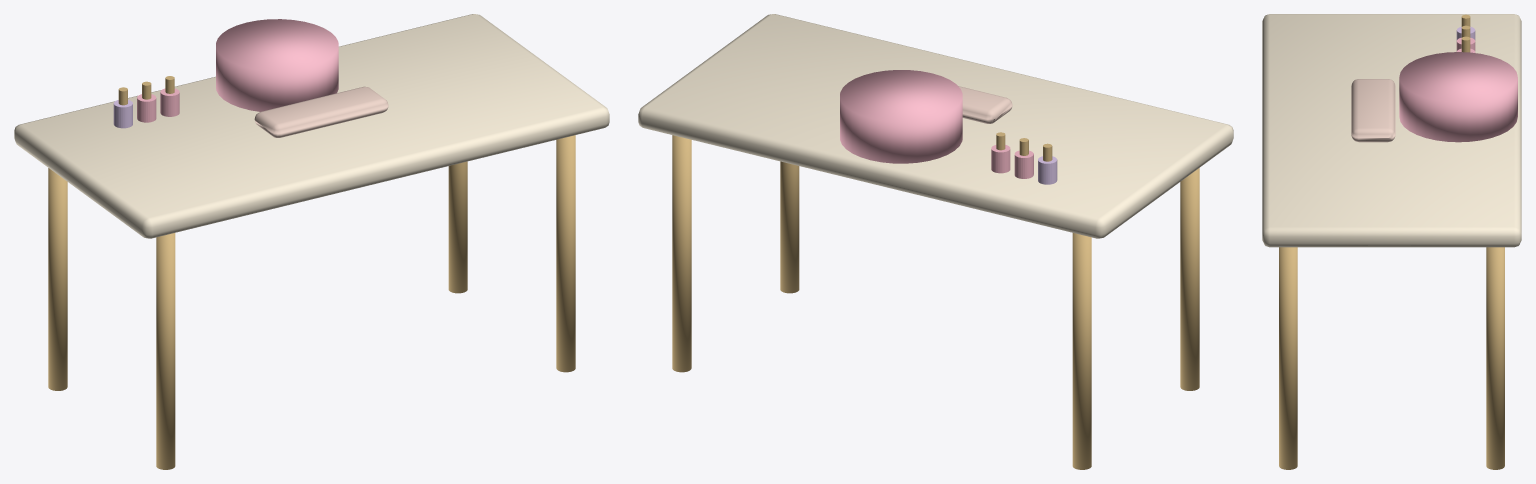
Rendered from manicure-station.glb.
The picture shows the model from 3 angles, left to right: view 1: azimuth 30°, elevation 25°; view 2: azimuth 150°, elevation 25°; view 3: azimuth 270°, elevation 25°; orthographic projection. The views are drawn at different scales.
Parts seen in each view (by area): view 1: station_Table, station_UVLamp, station_Leg_3, station_Leg_1, station_Leg_2, station_WristCushion, station_Leg_4; view 2: station_Table, station_UVLamp, station_Leg_4, station_Leg_2, station_Leg_1, station_Leg_3, station_WristCushion; view 3: station_Table, station_UVLamp, station_Leg_3, station_Leg_4, station_WristCushion.
Boxes of the visible parts, <box> form: station_Table: <box>14,14,609,238</box>; station_UVLamp: <box>216,19,338,111</box>; station_Leg_3: <box>556,135,575,372</box>; station_Leg_1: <box>156,233,175,469</box>; station_Leg_2: <box>48,168,67,390</box>; station_WristCushion: <box>254,86,388,137</box>; station_Leg_4: <box>448,161,467,293</box>; station_Table: <box>638,14,1233,238</box>; station_UVLamp: <box>840,70,962,163</box>; station_Leg_4: <box>672,135,691,372</box>; station_Leg_2: <box>1072,233,1091,469</box>; station_Leg_1: <box>1180,168,1199,390</box>; station_Leg_3: <box>780,161,799,293</box>; station_WristCushion: <box>958,86,1012,123</box>; station_Table: <box>1262,14,1521,247</box>; station_UVLamp: <box>1399,52,1517,142</box>; station_Leg_3: <box>1279,247,1297,469</box>; station_Leg_4: <box>1486,247,1504,469</box>; station_WristCushion: <box>1351,79,1395,142</box>.
Bounding box in the file's own units: 1.4 × 0.88 × 0.7.
